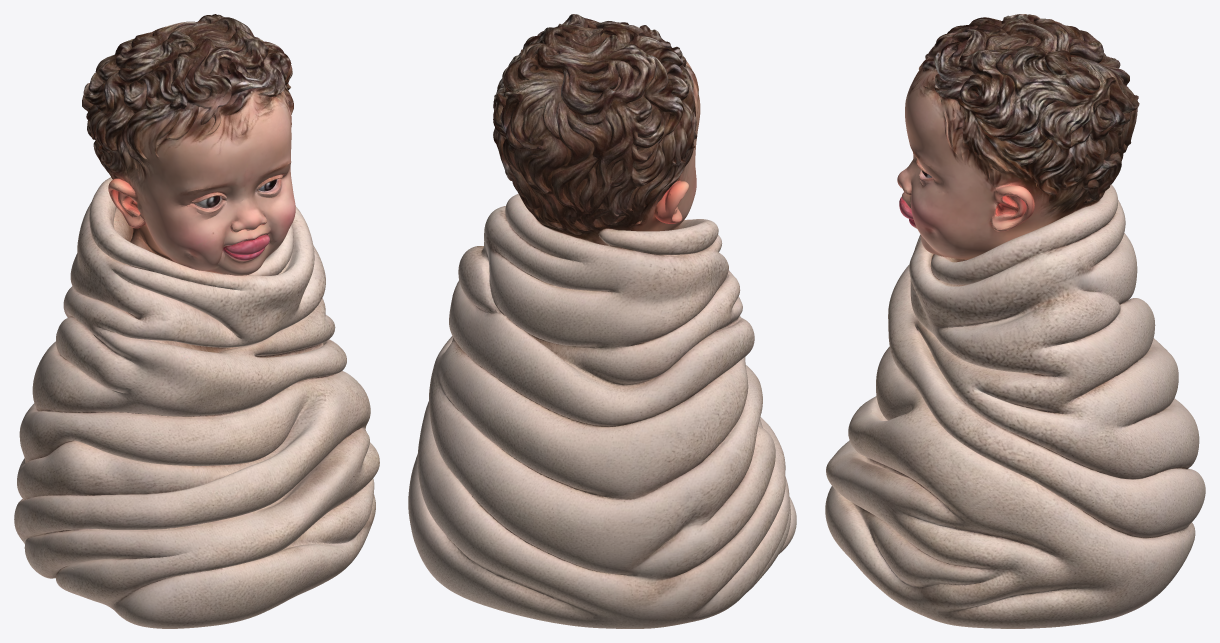
The model's file is salman.glb.
The picture shows the model from 3 angles, left to right: view 1: azimuth 30°, elevation 25°; view 2: azimuth 150°, elevation 25°; view 3: azimuth 270°, elevation 25°; orthographic projection. The views are drawn at different scales.
Size of the model in its own units: 1.21 by 1.89 by 1.21.
1 material, 1 textured.
